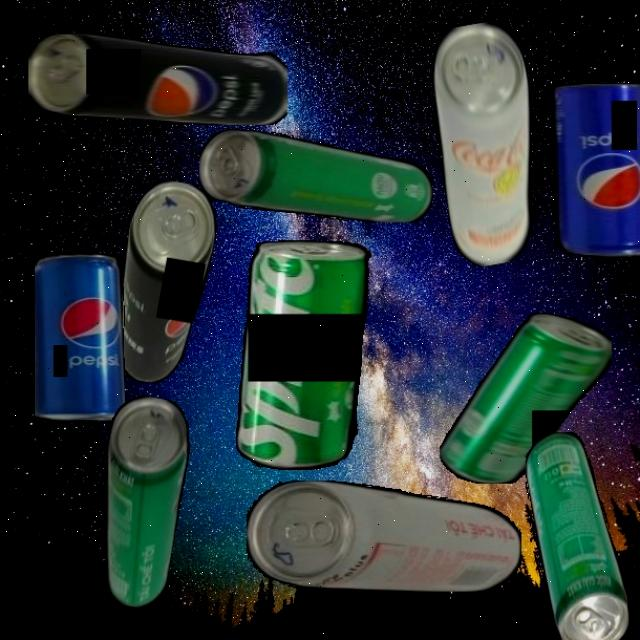debris: (235, 239, 409, 470), (418, 17, 558, 270), (246, 479, 522, 592), (439, 312, 612, 484), (81, 391, 197, 612), (104, 175, 223, 389), (29, 30, 288, 125), (524, 431, 630, 640), (200, 128, 433, 222), (551, 82, 640, 257), (33, 254, 125, 421)
